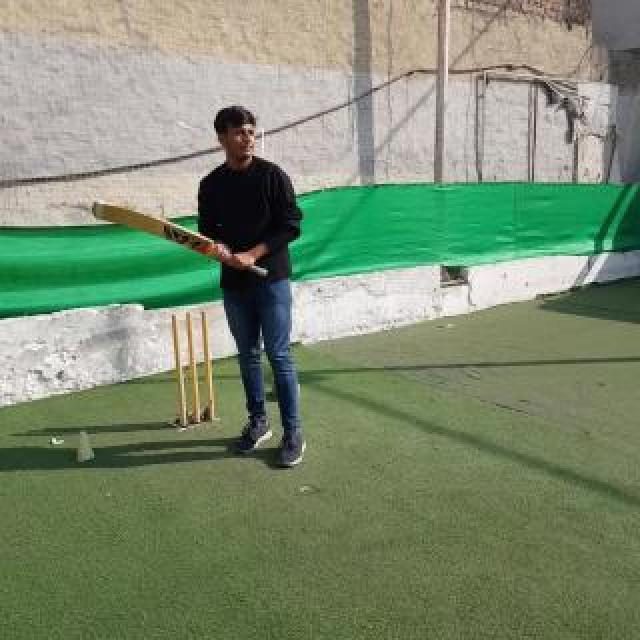bat: (92, 200, 268, 278)
